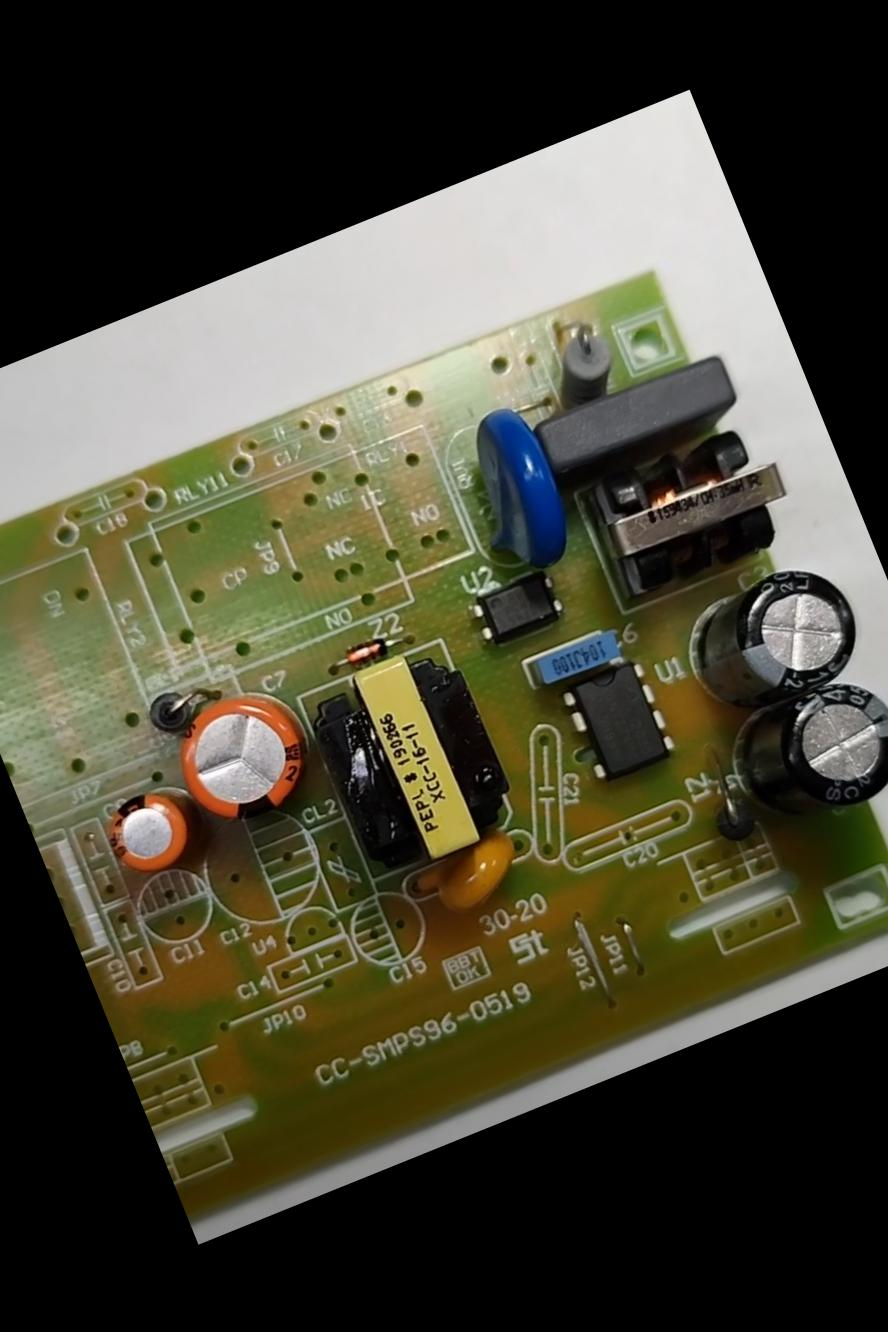Cap1: (149, 658, 340, 853)
Cap2: (88, 765, 216, 896)
Cap3: (657, 532, 886, 739)
Cap4: (691, 653, 887, 868)
MOSFET: (550, 640, 697, 798)
Mov: (435, 386, 596, 595)
Resistor: (522, 310, 634, 424)
Transformer: (281, 619, 542, 909), (564, 399, 814, 618)
